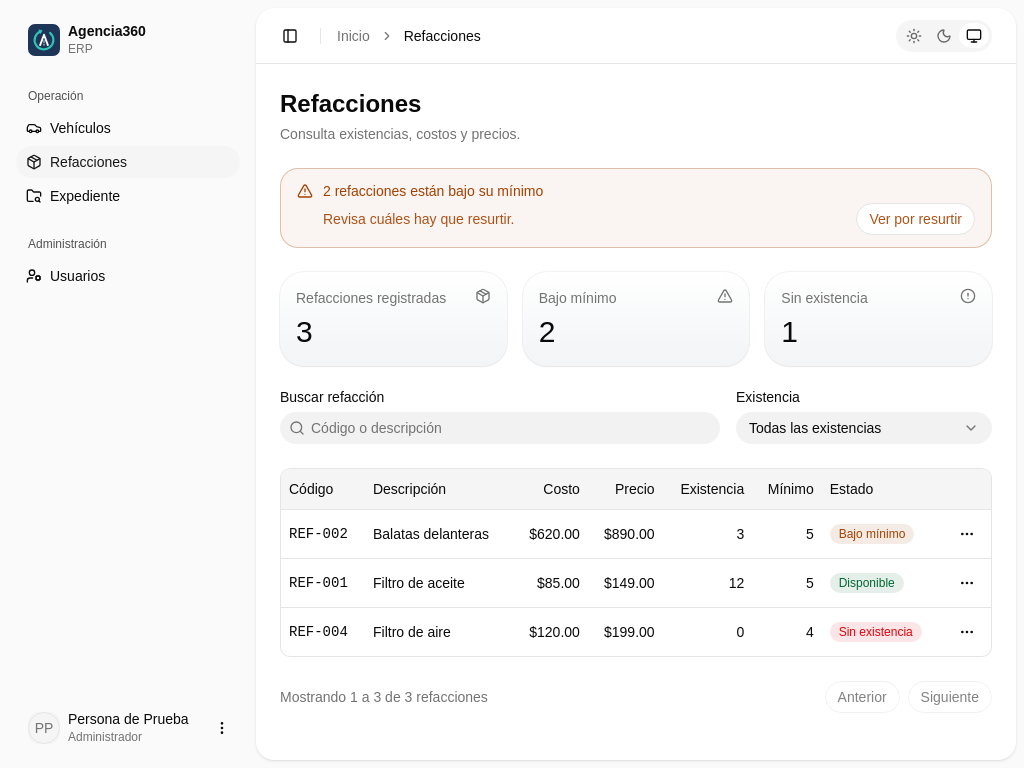
Test case: Inventario de refacciones › el historial muestra el error si no se pudo cargar
Click the button named "Acciones de REF-002": (967, 534) x1=951 y1=518 x2=983 y2=550
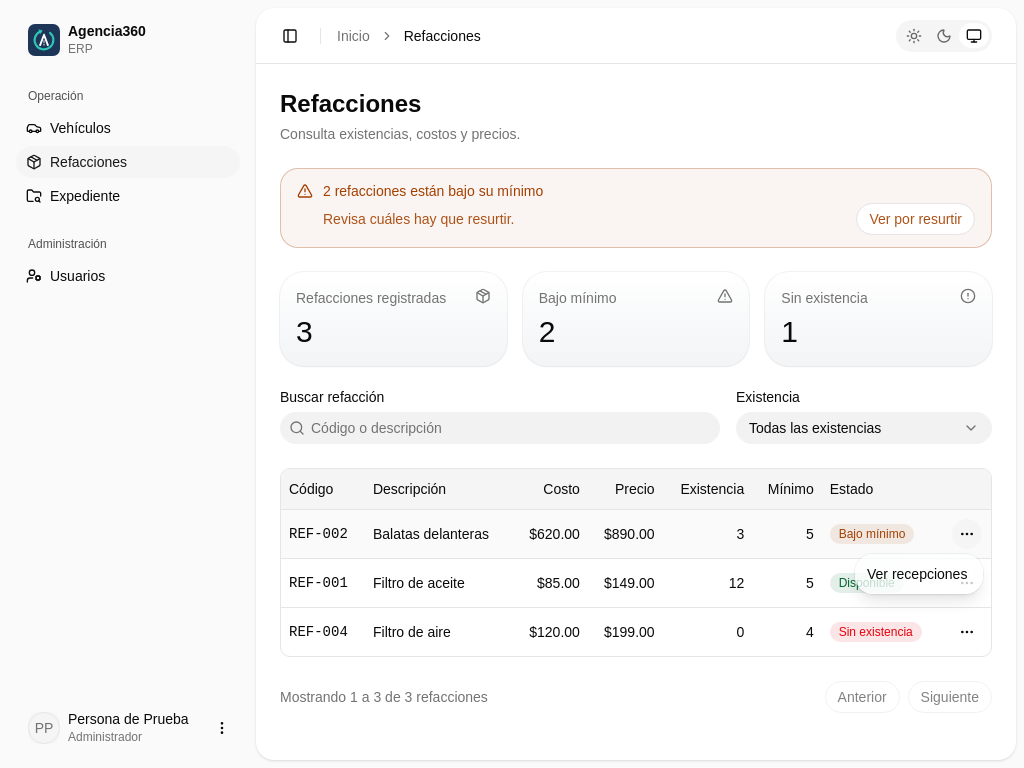
Click the menu item "Ver recepciones": (917, 574) x1=867 y1=566 x2=967 y2=582
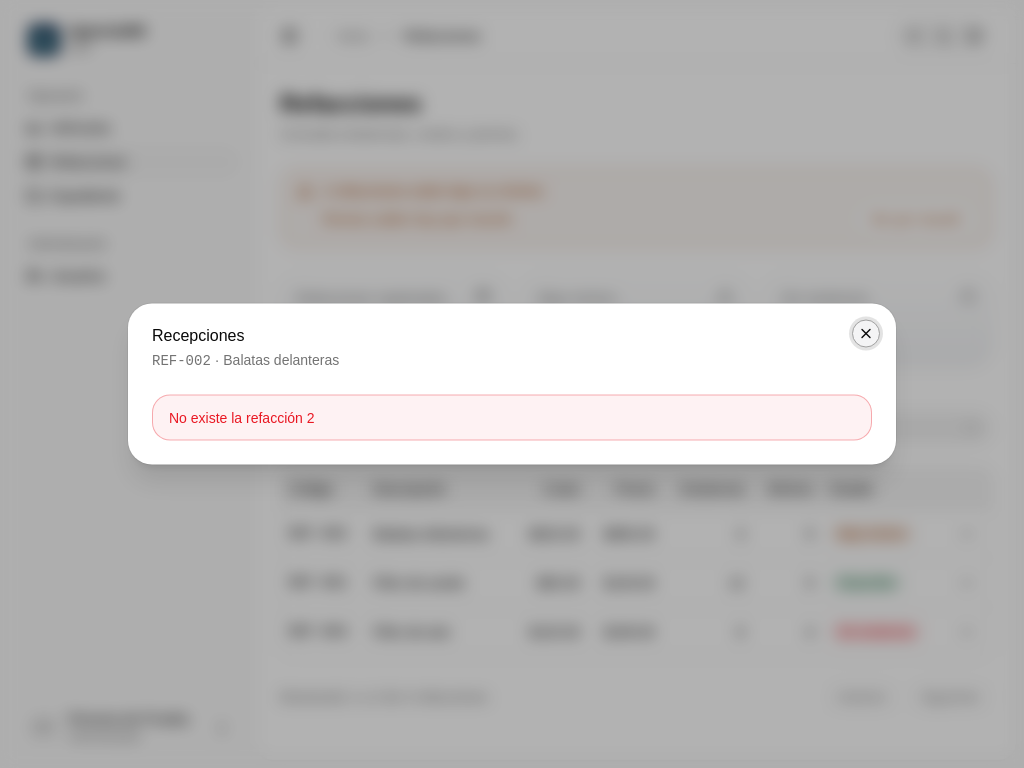
Now the text "No existe la refacción 2" is shown, box x1=169 y1=410 x2=314 y2=426
